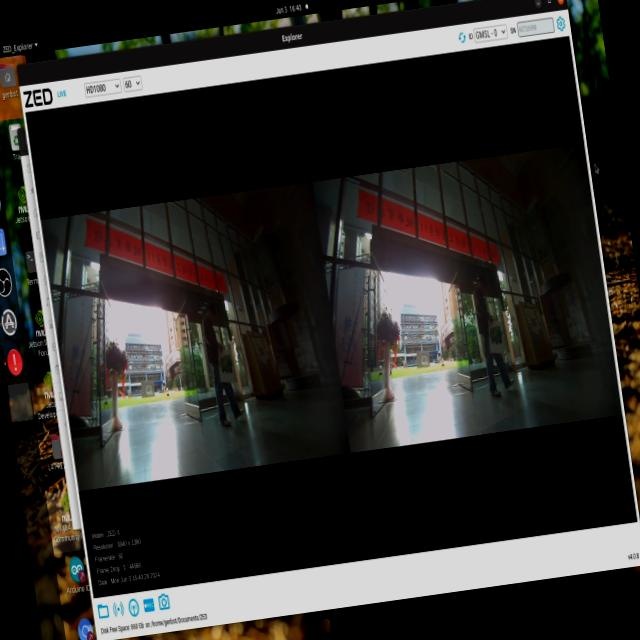green: (486, 318, 511, 356), (216, 344, 238, 376)
